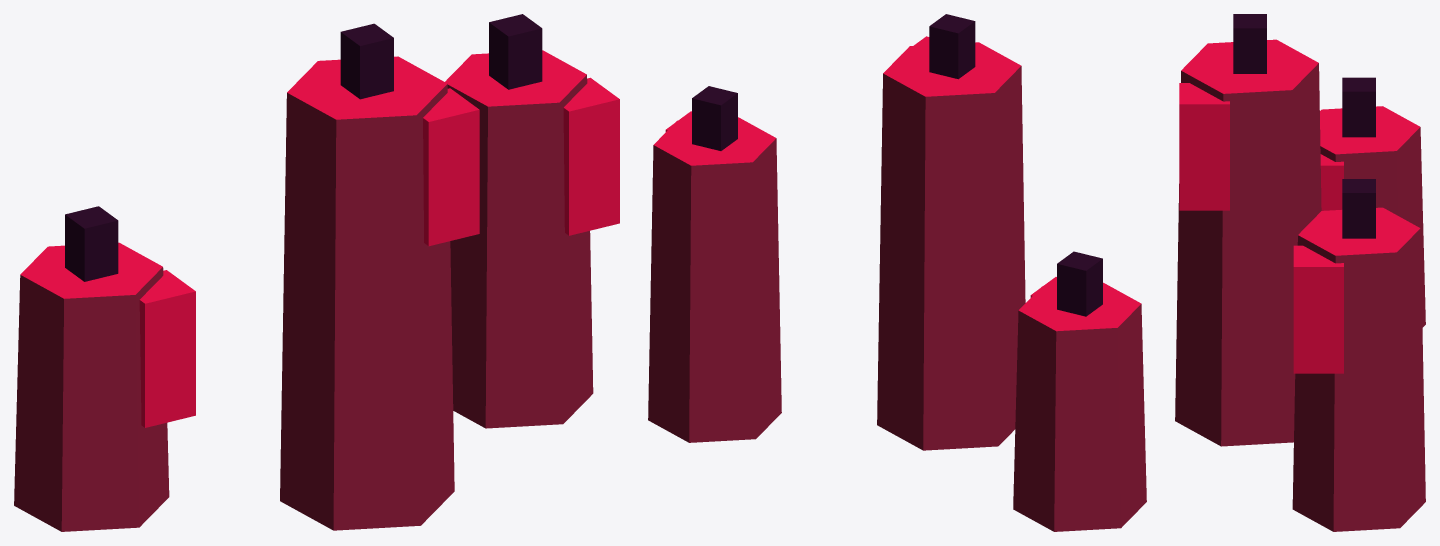
Rendered from candles2.glb.
3 renders of one model, left to right at view 1: azimuth 30°, elevation 25°; view 2: azimuth 150°, elevation 25°; view 3: azimuth 270°, elevation 25°, orthographic. The views are drawn at different scales.
Parts seen in each view (by area): view 1: Candles2; view 2: Candles2; view 3: Candles2.
Boxes of the visible parts, box(x1,y1,x2,y2) form: Candles2: box(14, 14, 619, 531); Candles2: box(648, 14, 1146, 531); Candles2: box(1175, 14, 1425, 531).
Bounding box in the file's own units: 0.6519 × 0.52 × 0.2985.
